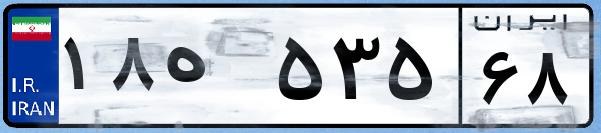1: (57, 26, 110, 100)
3: (330, 28, 385, 110)
5: (270, 28, 330, 110), (385, 28, 445, 110)
6: (475, 38, 525, 113)
8: (525, 38, 570, 115), (110, 28, 158, 98)
ه: (158, 20, 270, 120)
